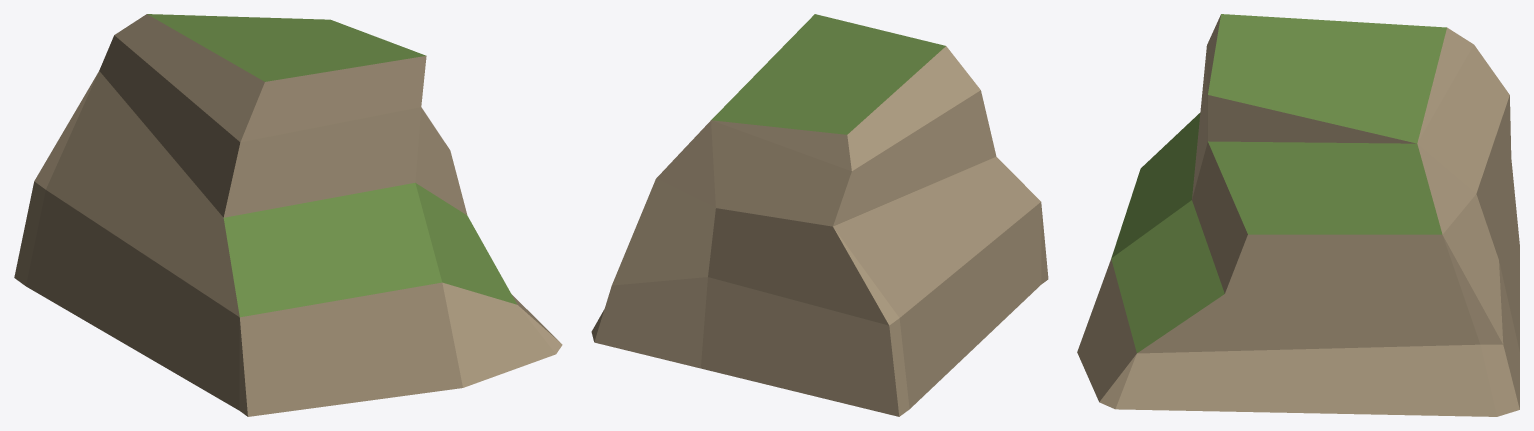
The model's file is rocher_moussu_2.glb.
The picture shows the model from 3 angles, left to right: view 1: azimuth 30°, elevation 25°; view 2: azimuth 150°, elevation 25°; view 3: azimuth 270°, elevation 25°; orthographic projection. The views are drawn at different scales.
Visible parts, largest first — view 1: rocher_moussu_2; view 2: rocher_moussu_2; view 3: rocher_moussu_2.
Part boxes in pixels (x1=…): rocher_moussu_2: x1=14, y1=14, x2=562, y2=416; rocher_moussu_2: x1=591, y1=14, x2=1048, y2=416; rocher_moussu_2: x1=1077, y1=14, x2=1519, y2=416.
Bounding box in the file's own units: 0.7427 × 0.56 × 0.8073.
